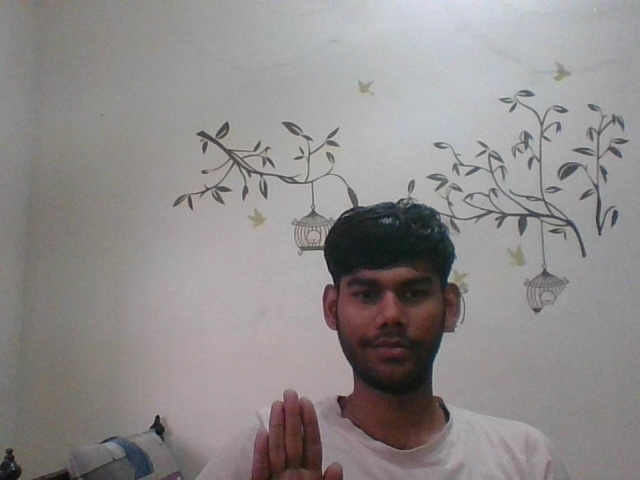Hello: (235, 381, 350, 480)
